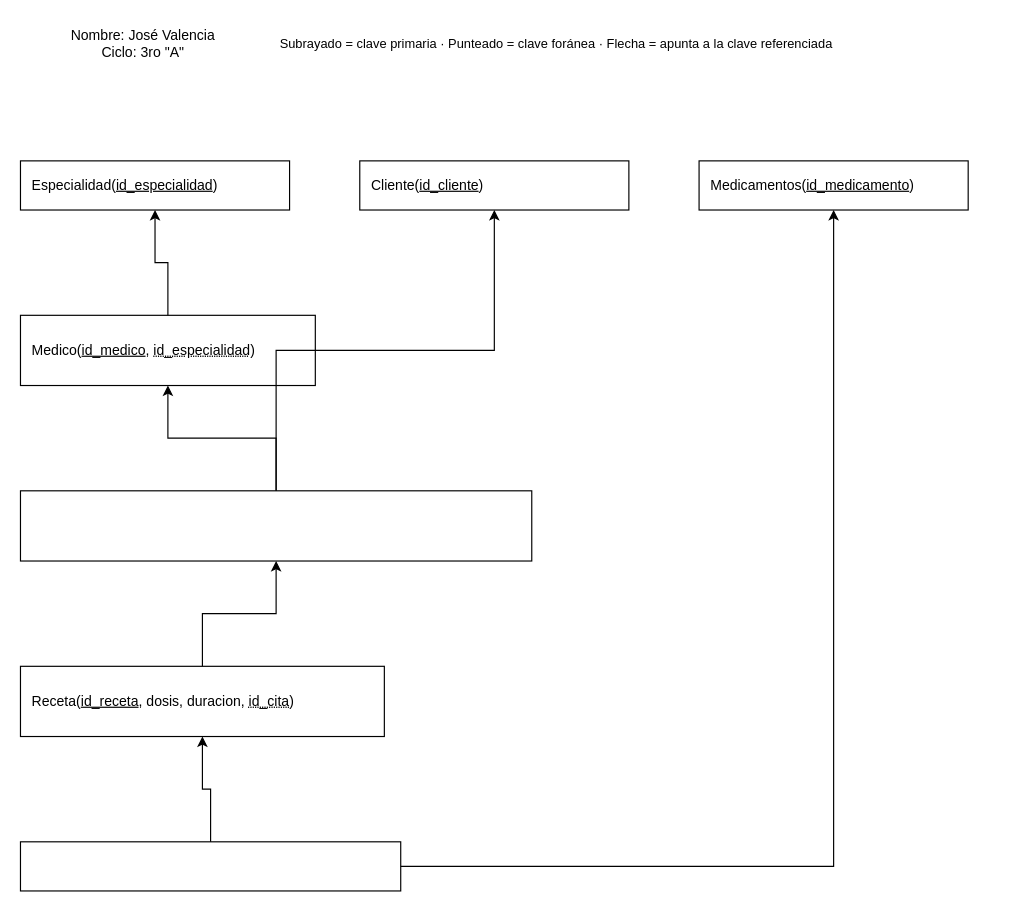
Some shapes in this 1024 by 911 pixel diagram are drawn without their labels. Each missing label, with the centre of its shape:
Cita( id_cita , fecha, hora, consultorio, id_medico , id_cliente ): the point at 275,525
Receta_Medicamento( id_receta , id_medicamento ): the point at 210,866
